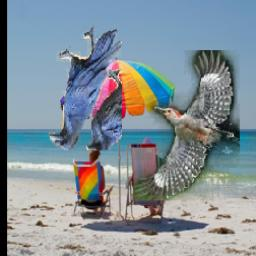Crow: (49, 26, 123, 150)
Woodpecker: (134, 51, 241, 201)
